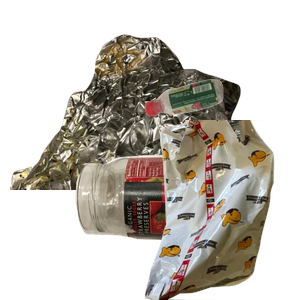glass: (73, 153, 284, 300)
metal: (10, 32, 250, 212)
plastic: (142, 77, 300, 186)
trash: (127, 120, 300, 300)
